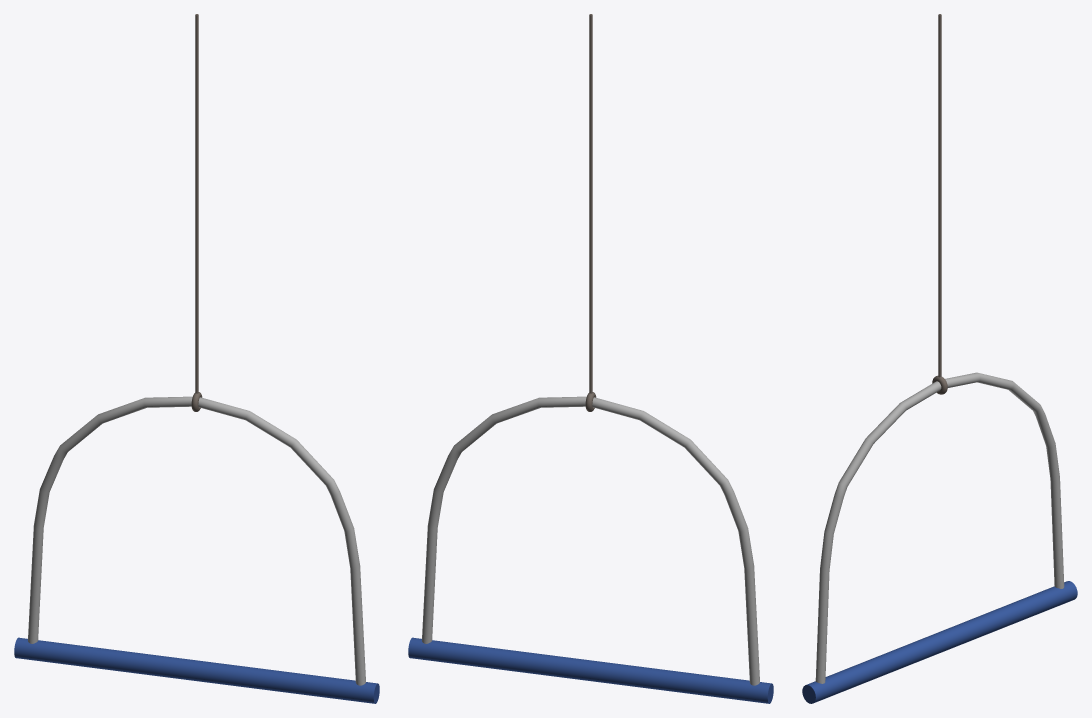
File: Klax_Chair_01.fbx
3 renders of one model, left to right at view 1: azimuth 30°, elevation 25°; view 2: azimuth 210°, elevation 25°; view 3: azimuth 270°, elevation 25°, orthographic. The views are drawn at different scales.
Parts seen in each view (by area): view 1: Klax_Chair_01; view 2: Klax_Chair_01; view 3: Klax_Chair_01.
Boxes of the visible parts, x1=… form: Klax_Chair_01: x1=14, y1=14, x2=379, y2=703; Klax_Chair_01: x1=408, y1=14, x2=773, y2=703; Klax_Chair_01: x1=802, y1=14, x2=1077, y2=703.
Size of the model in its own units: 2.87 by 7.75 by 3.04.
